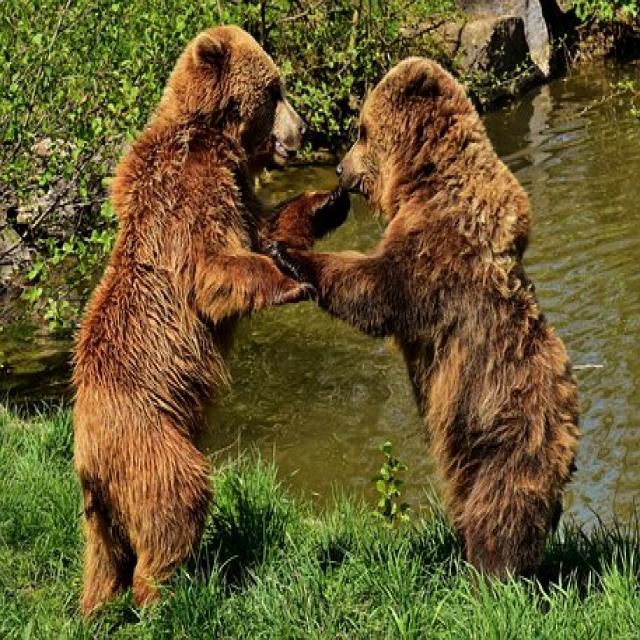Bear: (274, 56, 581, 584), (71, 24, 311, 619)
